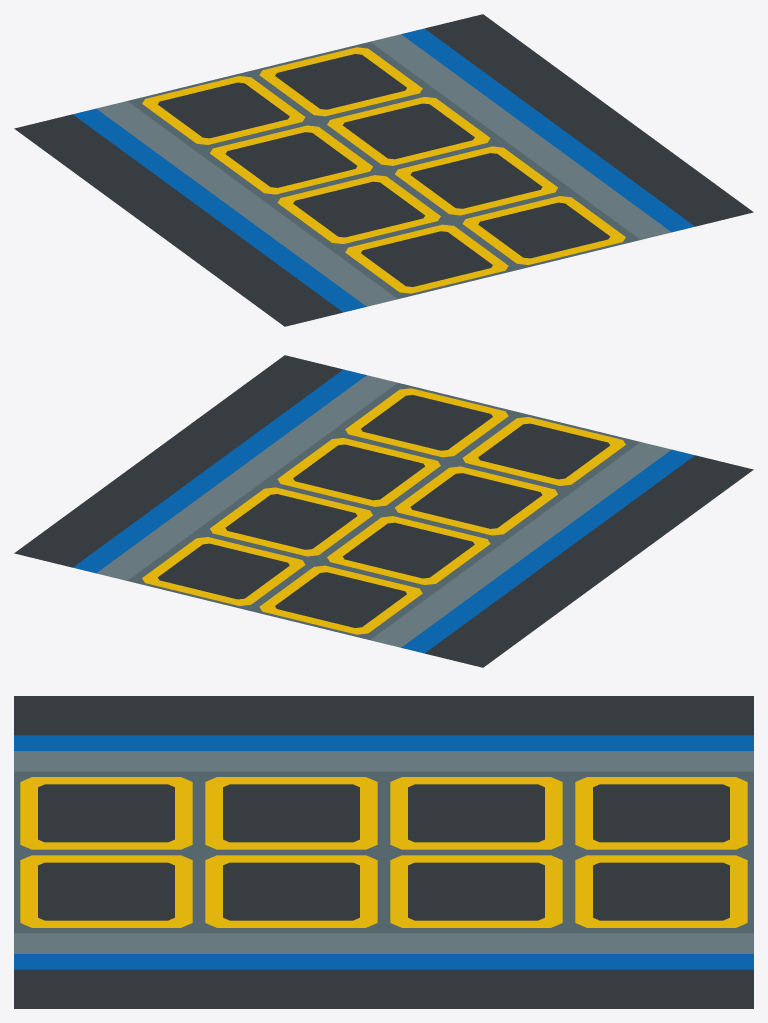
The model's file is Floor_type_C_007.002.fbx.
The picture shows the model from 3 angles, top to bottom: view 1: azimuth 30°, elevation 25°; view 2: azimuth 150°, elevation 25°; view 3: azimuth 270°, elevation 25°; orthographic projection. The views are drawn at different scales.
Visible parts, largest first — view 1: Floor_type_C_007.002; view 2: Floor_type_C_007.002; view 3: Floor_type_C_007.002.
Boxes of the visible parts, left/top/right/bottom form: Floor_type_C_007.002: left=14, top=14, right=753, bottom=326; Floor_type_C_007.002: left=14, top=355, right=753, bottom=667; Floor_type_C_007.002: left=14, top=696, right=753, bottom=1008.
Bounding box in the file's own units: 400 × 400 × 1.33e-21.
